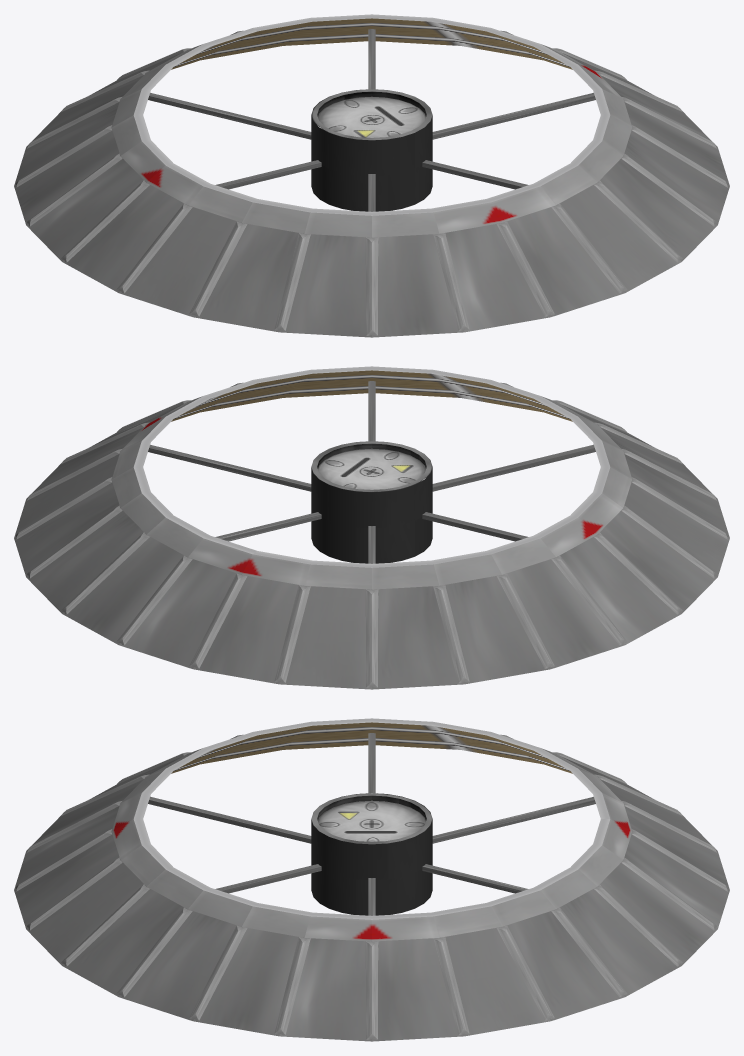
The picture shows the model from 3 angles, top to bottom: view 1: azimuth 30°, elevation 25°; view 2: azimuth 150°, elevation 25°; view 3: azimuth 270°, elevation 25°; orthographic projection.
Visible parts, largest first — view 1: Adapter25, Cylinder049, Cylinder046, Box108, Box110, Bracer012, Bracer010, Bracer011, Bracer013, Bracer009, Bracer008, Bracer014 (+7 smaller); view 2: Adapter25, Cylinder049, Cylinder046, Box108, Box109, Bracer004, Bracer002, Bracer003, Bracer005, Bracer001, Bracer024, Bracer006 (+7 smaller); view 3: Adapter25, Cylinder049, Cylinder046, Box110, Box109, Bracer020, Bracer018, Bracer019, Bracer021, Bracer017, Bracer016, Bracer022 (+7 smaller).
Part boxes in pixels (<box>): Adapter25: <box>14,14,729,337</box>; Cylinder049: <box>311,89,432,175</box>; Cylinder046: <box>311,151,432,211</box>; Box108: <box>215,92,595,189</box>; Box110: <box>148,92,528,189</box>; Bracer012: <box>433,233,469,331</box>; Bracer010: <box>274,233,310,331</box>; Bracer011: <box>365,237,378,335</box>; Bracer013: <box>496,221,554,316</box>; Bracer009: <box>189,221,247,316</box>; Bracer008: <box>116,203,192,293</box>; Bracer014: <box>551,203,627,293</box>; Adapter25: <box>14,366,729,689</box>; Cylinder049: <box>311,441,432,527</box>; Cylinder046: <box>311,503,432,563</box>; Box108: <box>148,444,528,541</box>; Box109: <box>215,444,595,541</box>; Bracer004: <box>433,585,469,683</box>; Bracer002: <box>274,585,310,683</box>; Bracer003: <box>365,589,378,687</box>; Bracer005: <box>496,573,554,668</box>; Bracer001: <box>189,573,247,668</box>; Bracer024: <box>116,555,192,645</box>; Bracer006: <box>551,555,627,645</box>; Adapter25: <box>14,718,729,1041</box>; Cylinder049: <box>311,793,432,879</box>; Cylinder046: <box>311,855,432,915</box>; Box110: <box>215,796,595,893</box>; Box109: <box>148,796,528,893</box>; Bracer020: <box>433,937,469,1035</box>; Bracer018: <box>274,937,310,1035</box>; Bracer019: <box>365,941,378,1039</box>; Bracer021: <box>496,925,554,1020</box>; Bracer017: <box>189,925,247,1020</box>; Bracer016: <box>116,907,192,997</box>; Bracer022: <box>551,907,627,997</box>.
Size of what is drawn, in the model's own units: 3.75 by 3.75 by 0.4158.
1 material, 1 textured.
